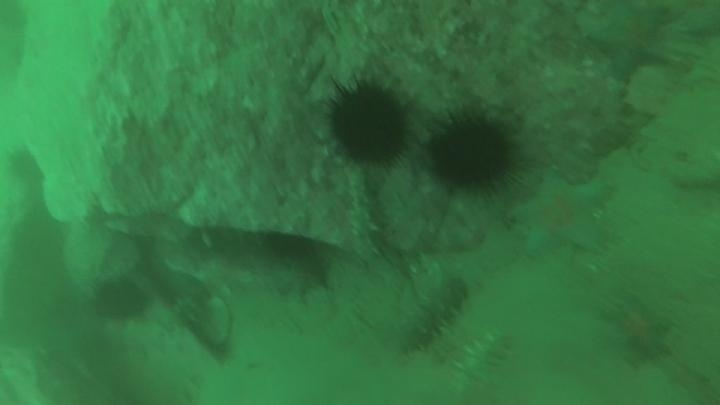echinus: (325, 79, 412, 167), (426, 112, 518, 193), (91, 274, 151, 324), (5, 145, 44, 185)
holothurian: (395, 272, 471, 356), (449, 327, 516, 399), (342, 168, 382, 264)
scallop: (186, 294, 236, 356)
starfish: (509, 167, 615, 260), (583, 4, 676, 82), (599, 295, 675, 365)
